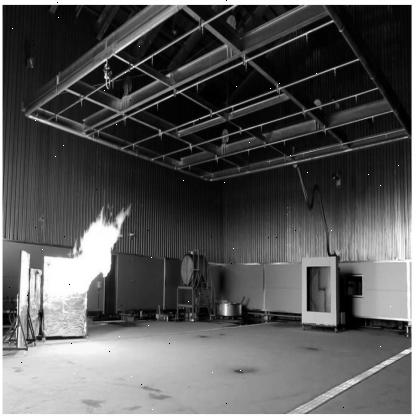fire: (26, 205, 131, 308)
